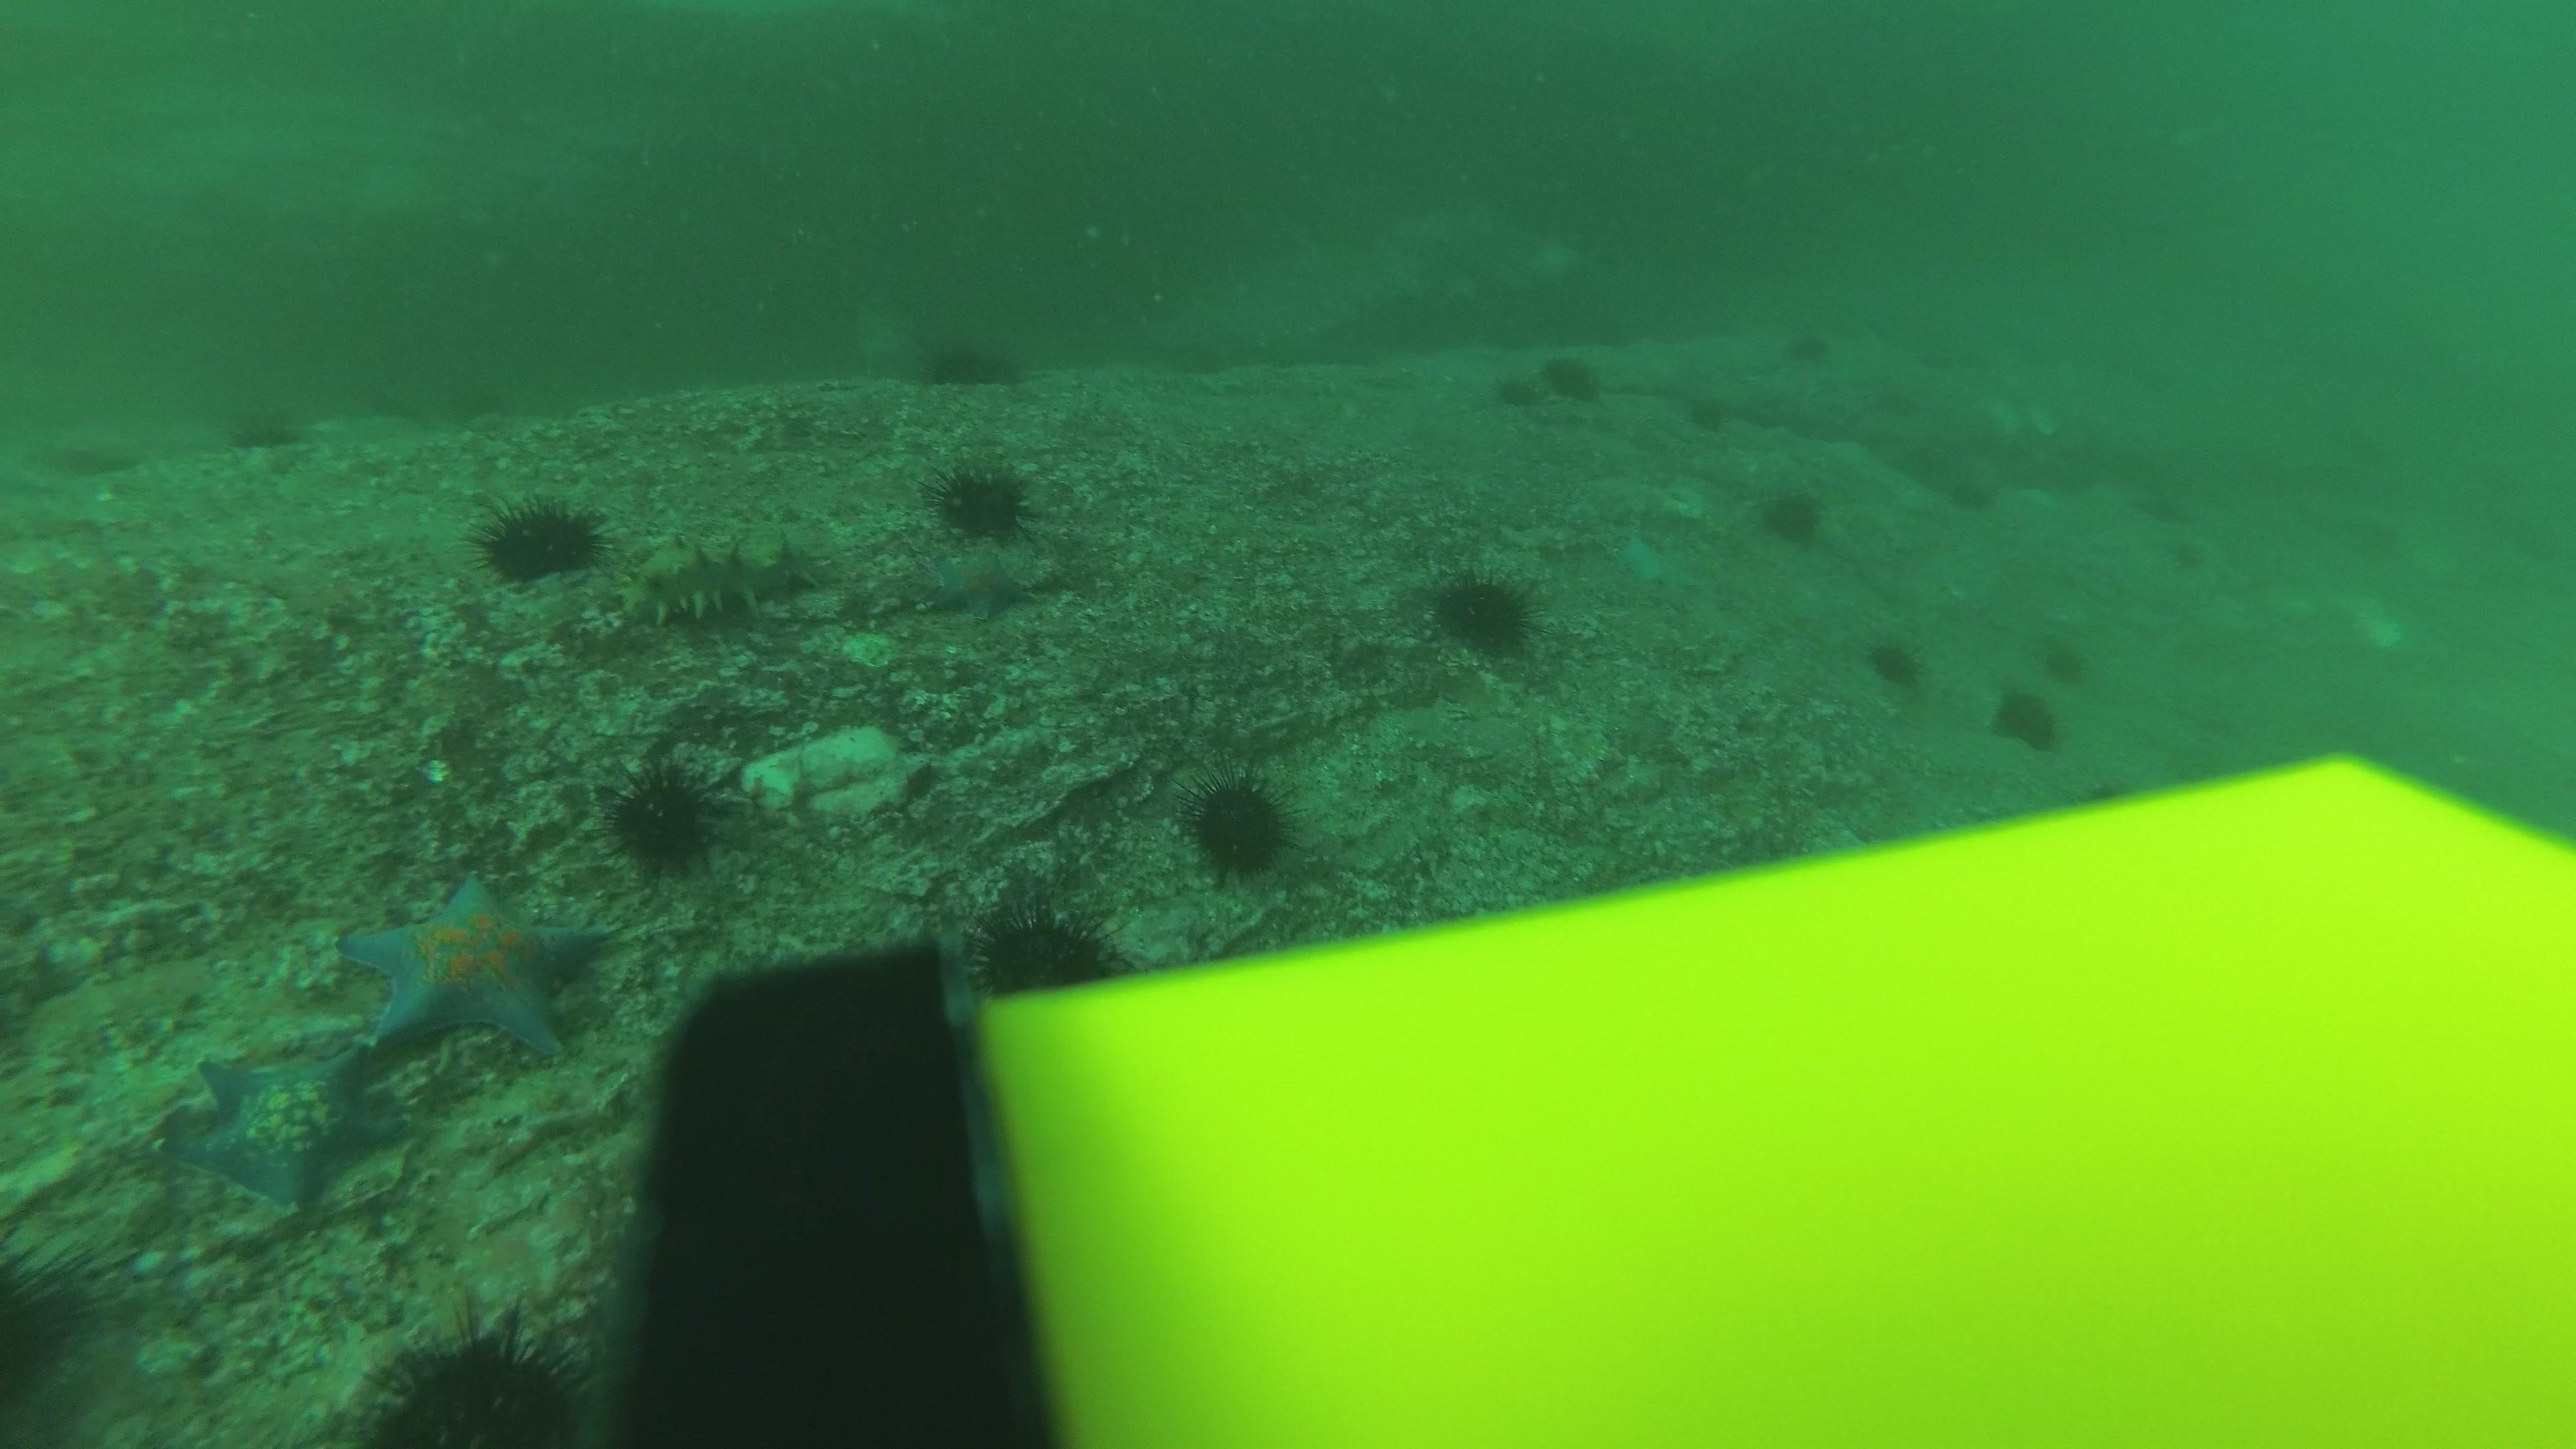echinus: (350, 1306, 593, 1444), (0, 1235, 106, 1440), (970, 901, 1129, 1001), (603, 757, 725, 874), (1182, 770, 1297, 881), (476, 492, 605, 586), (1430, 566, 1537, 655), (932, 458, 1033, 541), (924, 329, 1021, 391), (1990, 685, 2063, 755), (1757, 481, 1829, 547), (226, 400, 308, 453), (1537, 349, 1605, 409), (1865, 632, 1923, 688), (2038, 633, 2089, 686), (2135, 479, 2185, 527), (1681, 386, 1729, 433), (1778, 320, 1826, 368), (1948, 474, 1996, 522), (2164, 534, 2212, 582), (1491, 372, 1537, 412)
holothurian: (609, 531, 828, 633)
starfish: (338, 865, 612, 1060), (166, 1039, 409, 1217), (915, 550, 1042, 623), (1614, 525, 1704, 594)
